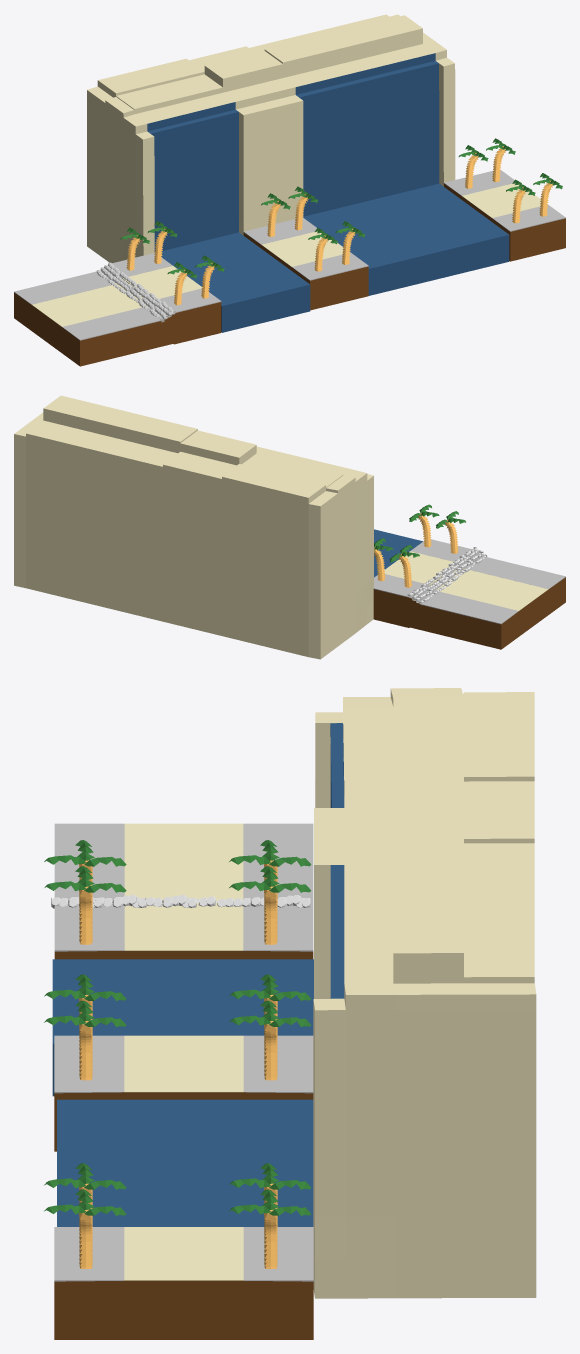
Rendered from platform.1.1 1.fbx.
3 renders of one model, top to bottom at view 1: azimuth 30°, elevation 25°; view 2: azimuth 150°, elevation 25°; view 3: azimuth 270°, elevation 25°, orthographic. The views are drawn at different scales.
Parts seen in each view (by area): view 1: Cube.041, Cube.001, Cube.013; view 2: Cube.041, Cube.001, Cube.013; view 3: Cube.041, Cube.001, Cube.013.
Boxes of the visible parts, box(x1,y1,x2,y2) form: Cube.041: box(87, 14, 509, 332); Cube.001: box(14, 170, 565, 366); Cube.013: box(120, 138, 562, 305); Cube.041: box(14, 395, 422, 659); Cube.001: box(373, 539, 565, 649); Cube.013: box(374, 504, 466, 587); Cube.041: box(52, 688, 536, 1298); Cube.001: box(54, 823, 313, 1339); Cube.013: box(44, 840, 311, 1269).
Bounding box in the file's own units: 13778 × 4631 × 6182.
